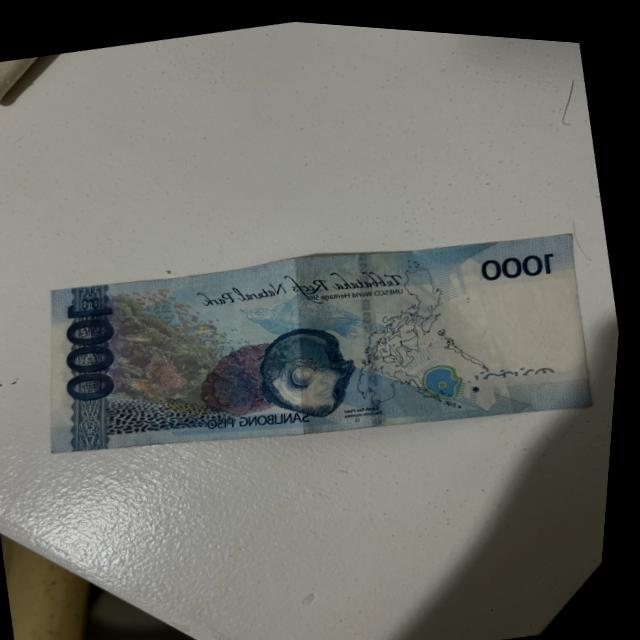1000_pearl: (262, 313, 365, 416)
1000_pearl_watermark: (421, 350, 469, 399)
